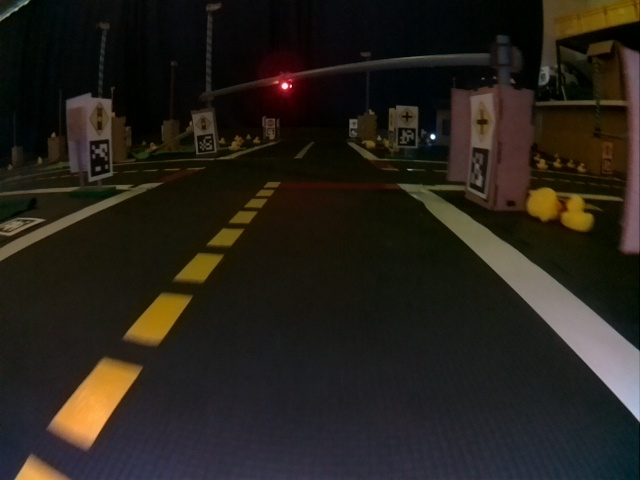Duckie: (528, 188, 559, 221), (564, 196, 593, 231), (230, 141, 239, 151)
Intersection sign: (472, 98, 493, 146), (398, 107, 416, 126)
QR code: (468, 147, 488, 194), (89, 139, 112, 178), (397, 127, 417, 147), (196, 134, 215, 154)
Signal sign: (91, 101, 110, 137), (195, 115, 213, 133)
Traffic light: (279, 74, 292, 93)
